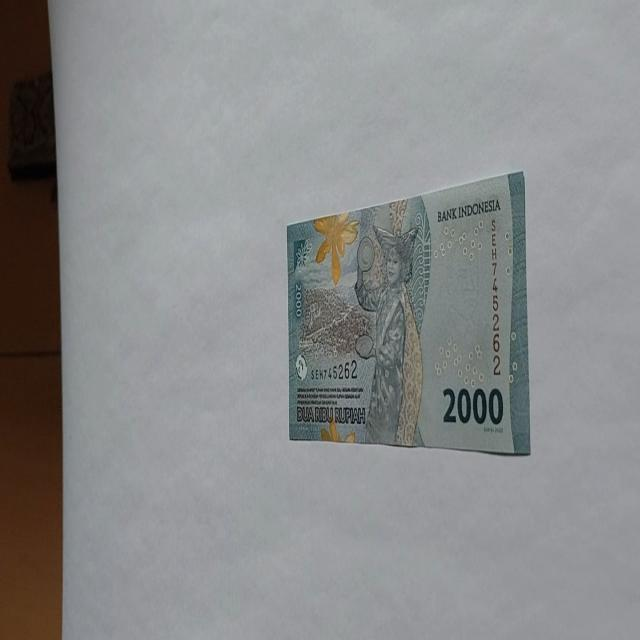dua ribu rupiah: (286, 169, 530, 456), (353, 222, 423, 446)
